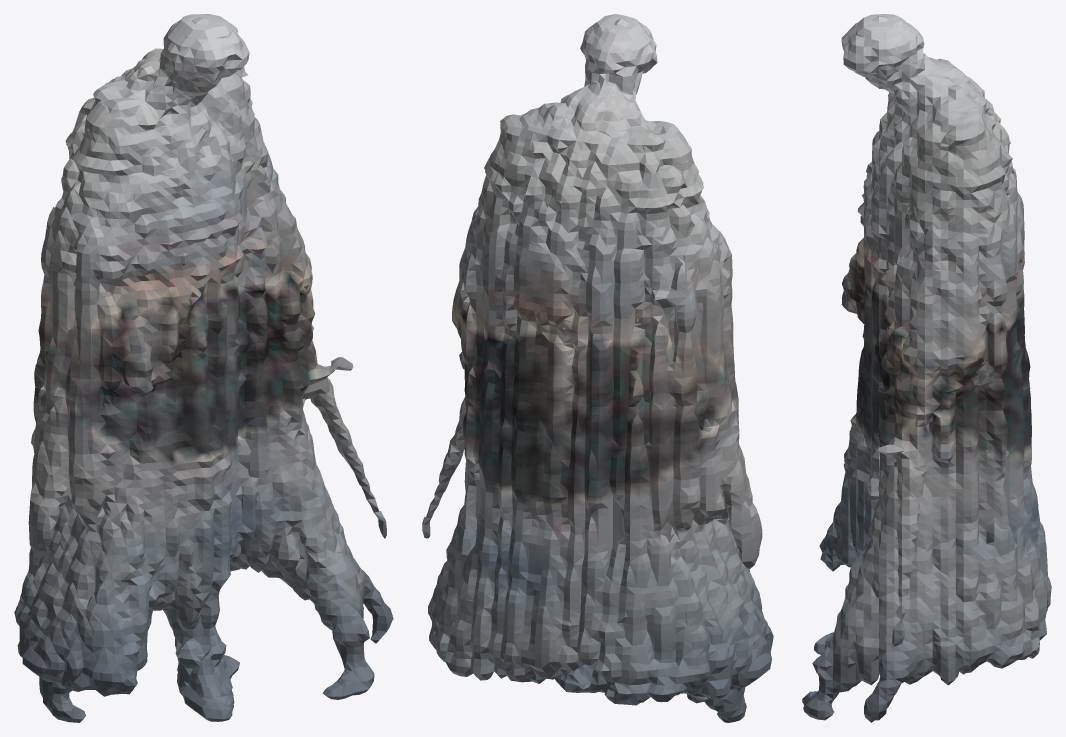
File: haechan-triposr-v1.glb
3 views of the same model, side by side, from view 1: azimuth 30°, elevation 25°; view 2: azimuth 150°, elevation 25°; view 3: azimuth 270°, elevation 25° (orthographic). The views are drawn at different scales.
Visible parts, largest first — view 1: world; view 2: world; view 3: world.
Boxes of the visible parts, bbox=[...] form: world: bbox=[14, 14, 393, 722]; world: bbox=[422, 14, 773, 722]; world: bbox=[802, 14, 1051, 722].
Size of the model in its own units: 0.9621 by 1.78 by 0.6218.
